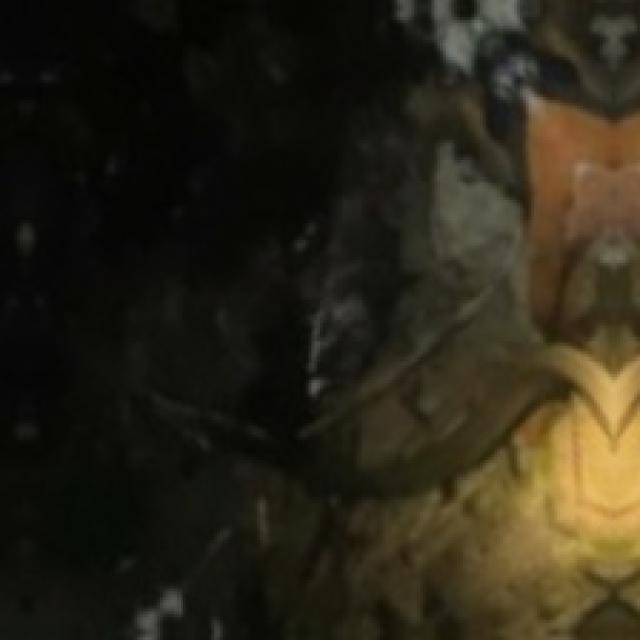king cobra: (360, 319, 640, 488)
